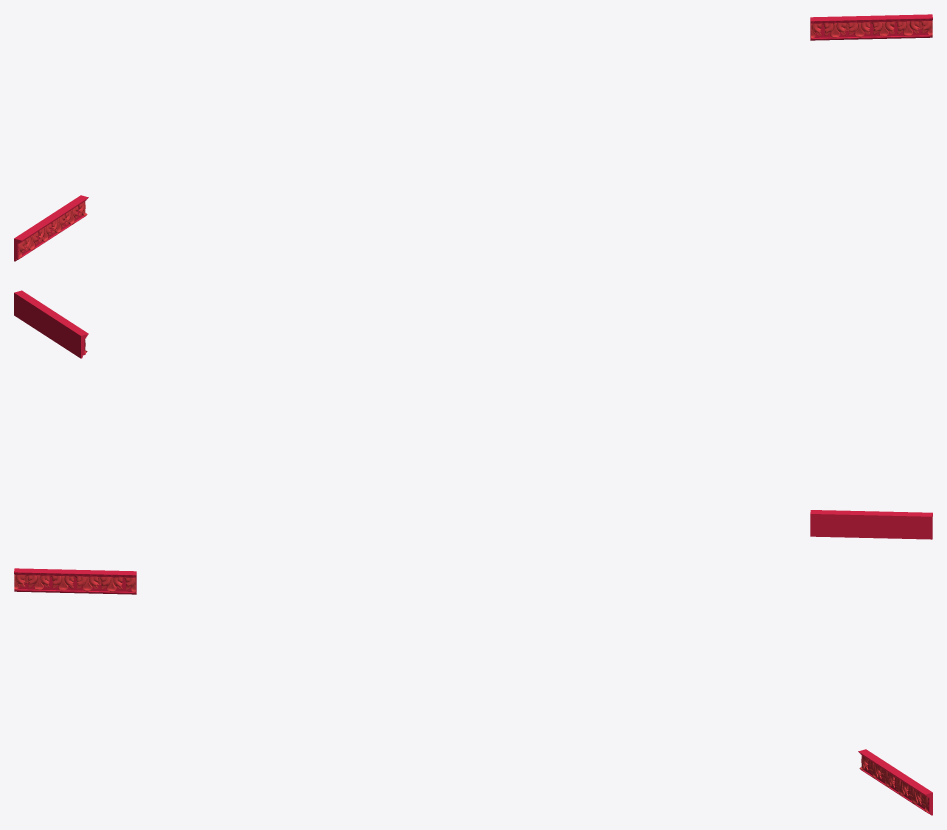
Rendered from Ornament_Mesh.fbx.
3 views of the same model, one above another, from view 1: azimuth 30°, elevation 25°; view 2: azimuth 150°, elevation 25°; view 3: azimuth 330°, elevation 25° (orthographic).
Parts seen in each view (by area): view 1: Ornament_Mesh; view 2: Ornament_Mesh; view 3: Ornament_Mesh.
Boxes of the visible parts, x1,y1,x2,y2 form: Ornament_Mesh: (14,14,932,261); Ornament_Mesh: (14,290,932,539); Ornament_Mesh: (14,568,932,815).
Bounding box in the file's own units: 6419 × 152 × 386.
